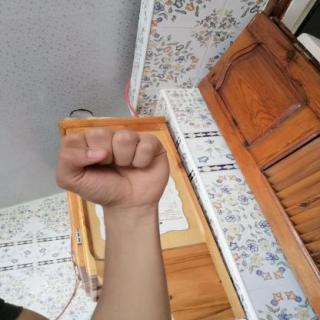SAD: (43, 117, 178, 216)
